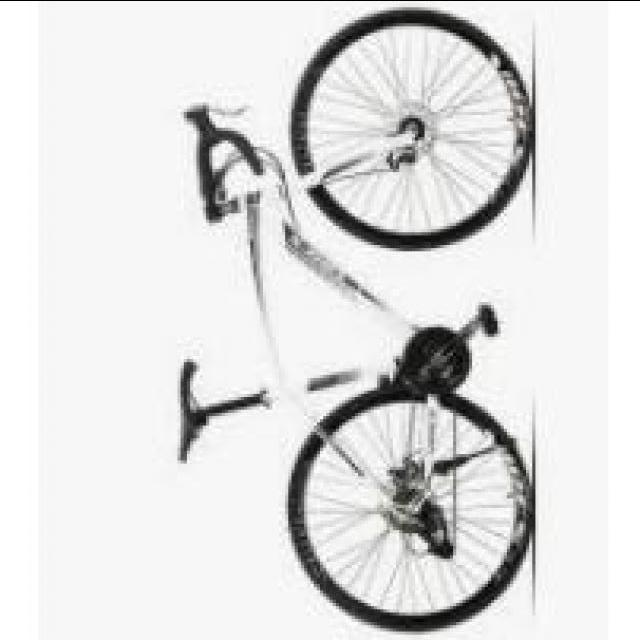bicycle: (176, 4, 537, 632)
